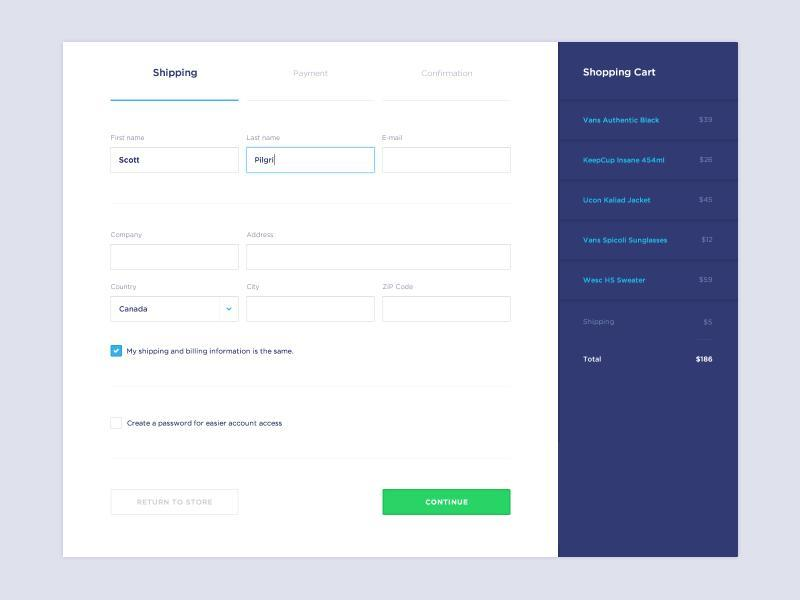button: (384, 490, 512, 516), (112, 490, 240, 515)
checkbox: (111, 418, 123, 430), (112, 346, 123, 357)
dropdown: (111, 297, 240, 322)
input: (247, 245, 513, 271), (383, 148, 512, 174), (248, 148, 376, 174), (248, 297, 376, 323), (111, 149, 240, 174), (383, 298, 512, 323), (112, 246, 240, 271)
label: (126, 419, 285, 430), (127, 348, 295, 358), (110, 231, 145, 241), (246, 134, 283, 143), (110, 134, 146, 143), (382, 283, 416, 292), (246, 231, 277, 240), (111, 283, 139, 292), (381, 134, 405, 143), (248, 284, 263, 292)
